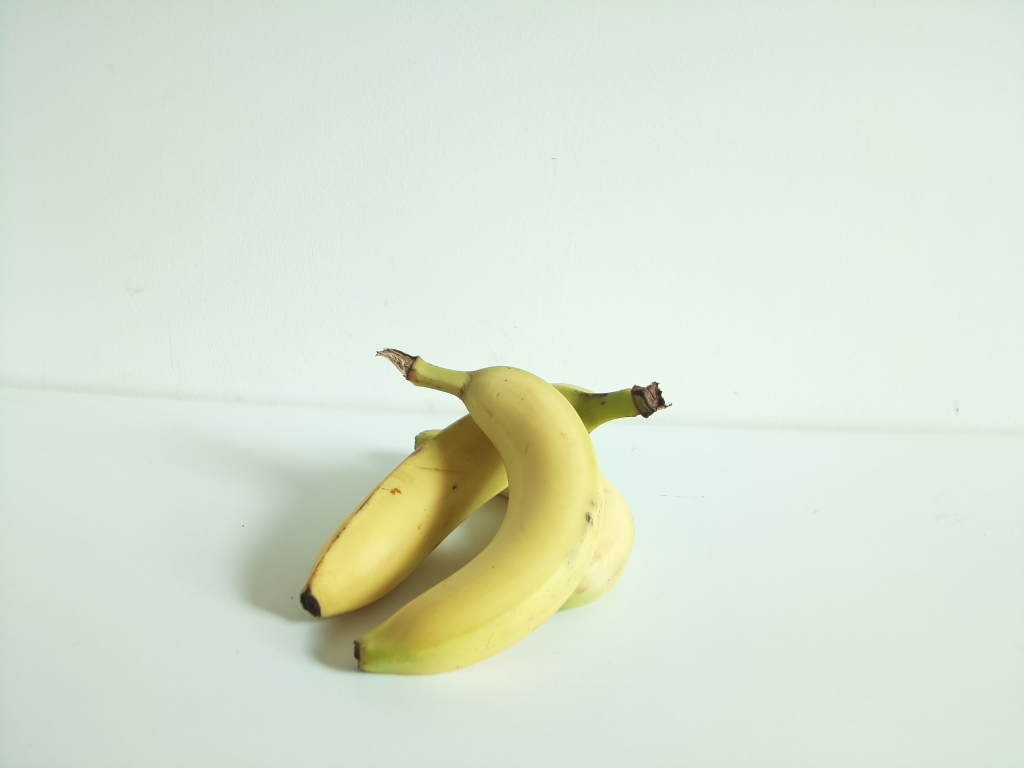banana: (298, 380, 673, 619), (354, 347, 601, 677), (417, 431, 629, 610)
